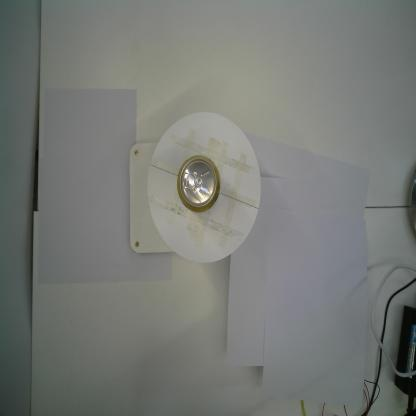Alcohol: (176, 154, 222, 215)
